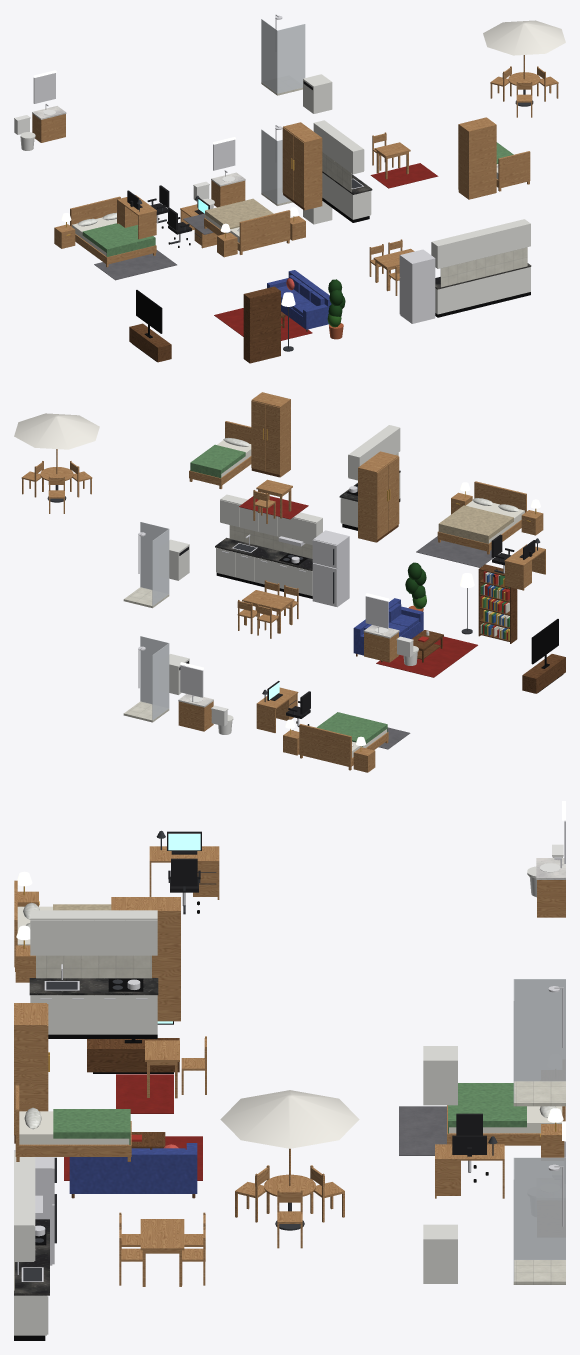
The model's file is i_cantilever_house.gltf.
3 renders of one model, top to bottom at view 1: azimuth 30°, elevation 25°; view 2: azimuth 150°, elevation 25°; view 3: azimuth 270°, elevation 25°, orthographic. The views are drawn at different scales.
Parts seen in each view (by area): view 1: I_cantilever_house; view 2: I_cantilever_house; view 3: I_cantilever_house.
Boxes of the visible parts, left/top/right/bottom form: I_cantilever_house: left=14, top=14, right=565, bottom=363; I_cantilever_house: left=14, top=392, right=565, bottom=772; I_cantilever_house: left=14, top=801, right=565, bottom=1340.
Bounding box in the file's own units: 15.03 × 5.85 × 9.52.
35 materials, 13 textured.
